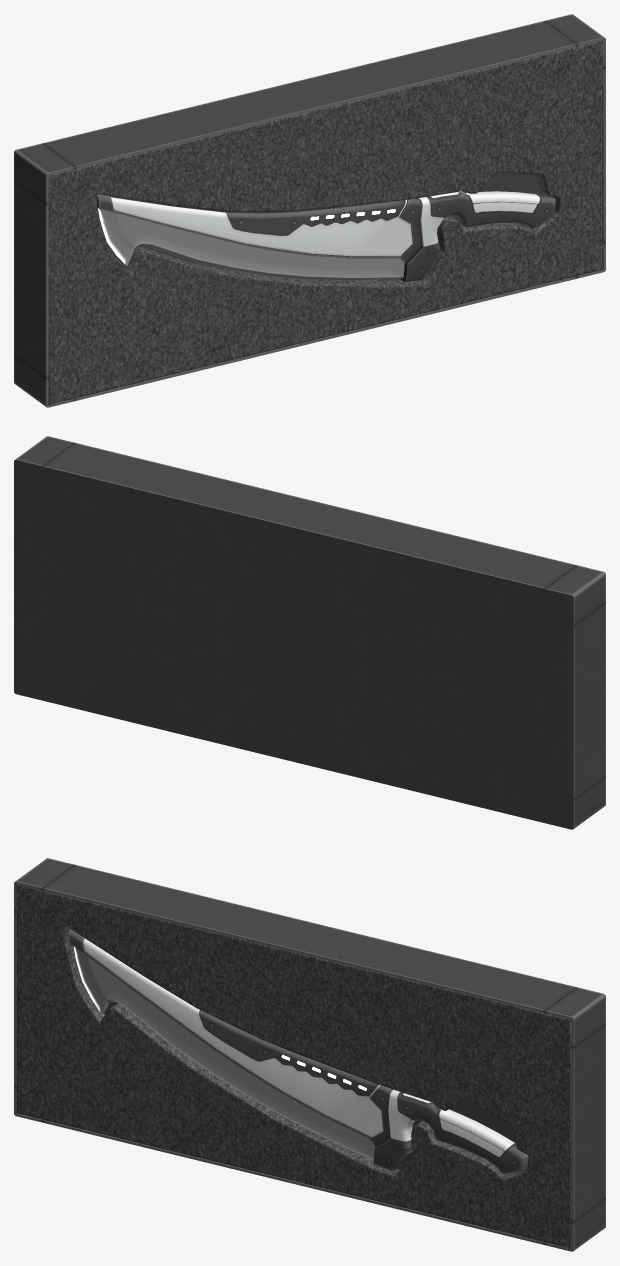
Rendered from MeleeMachete02Case.FBX.
The picture shows the model from 3 angles, top to bottom: view 1: azimuth 30°, elevation 25°; view 2: azimuth 150°, elevation 25°; view 3: azimuth 330°, elevation 25°; orthographic projection.
Parts seen in each view (by area): view 1: Case, Weapon; view 2: Case; view 3: Case, Weapon.
Boxes of the visible parts, box(x1,y1,x2,y2) form: Case: box(14, 14, 605, 407); Weapon: box(97, 191, 555, 281); Case: box(14, 436, 605, 829); Case: box(14, 858, 605, 1251); Weapon: box(68, 929, 528, 1174).
Size of what is drawn, in the model's own units: 1 by 0.4 by 0.1012.
